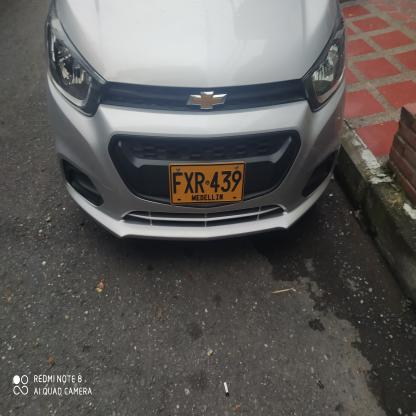placa: (166, 162, 248, 207)
